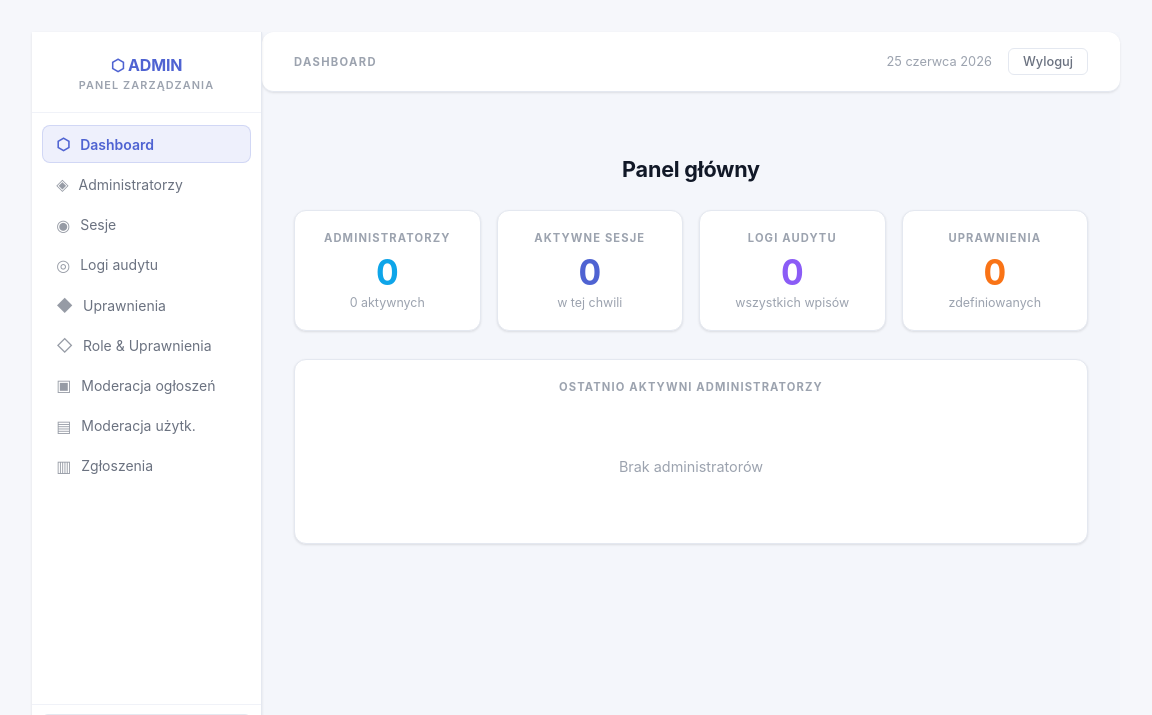
AdminPanel › Widok Administratorzy › pokazuje błąd, gdy pobranie administratorów się nie powiedzie
Click the button "◈ Administratorzy": click(146, 184) [42,165,251,204]
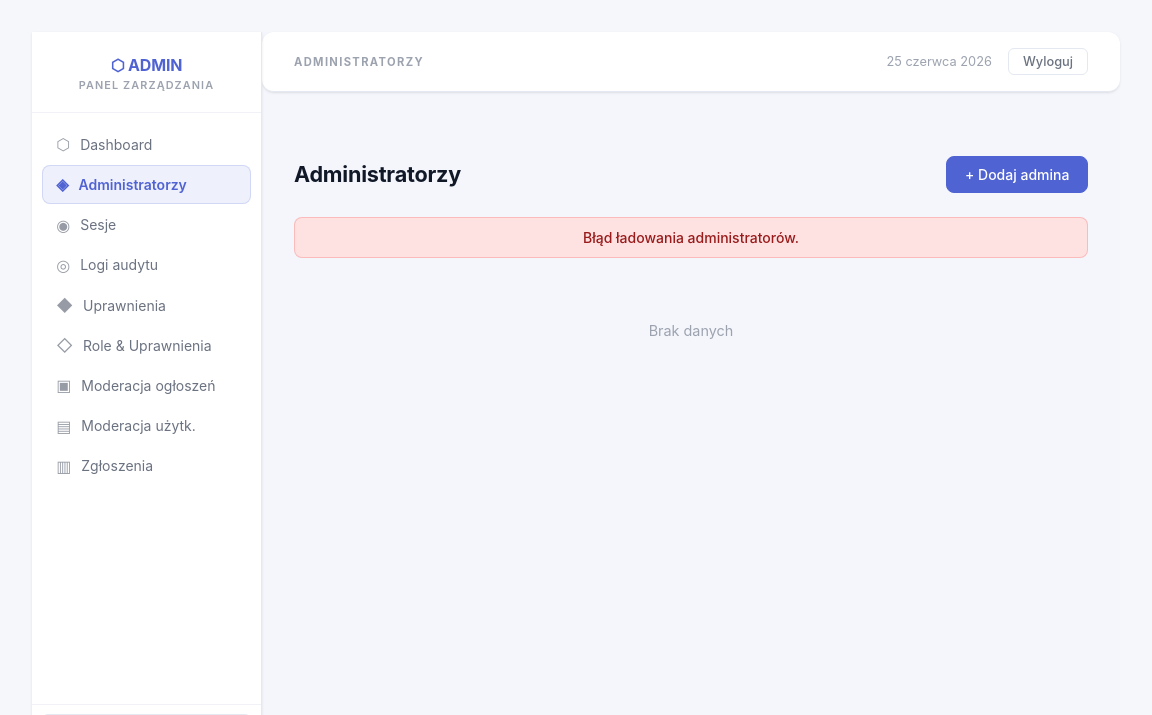
Expected: the text "Błąd ładowania administratorów." is shown, [294,217,1088,258]
